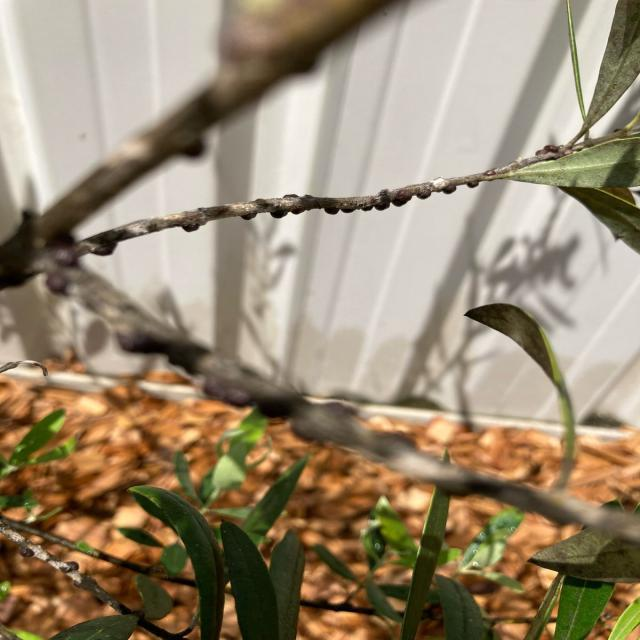BlackScale: (74, 131, 638, 256)
